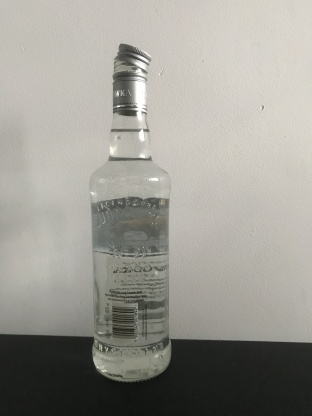nakretka: (110, 41, 152, 116)
